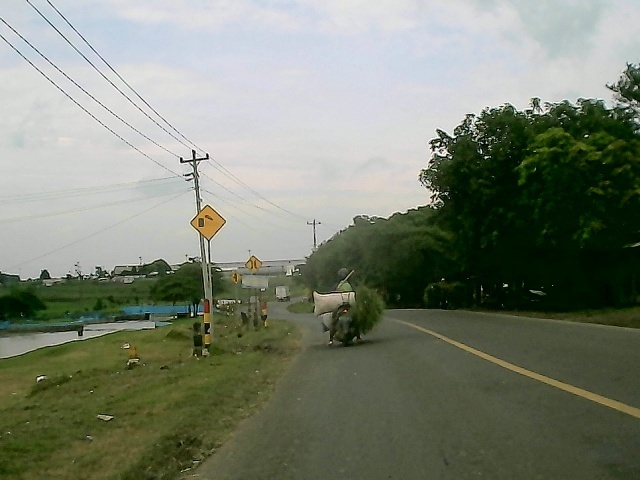Jembatan: (243, 255, 265, 277)
Peringatan tepi air: (187, 201, 228, 242)
